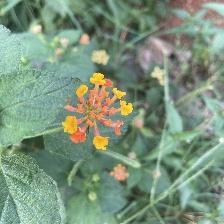common lanthana: (61, 70, 137, 153)
